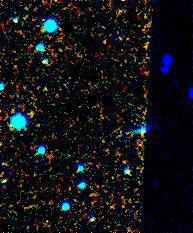star: (17, 99, 47, 129)
